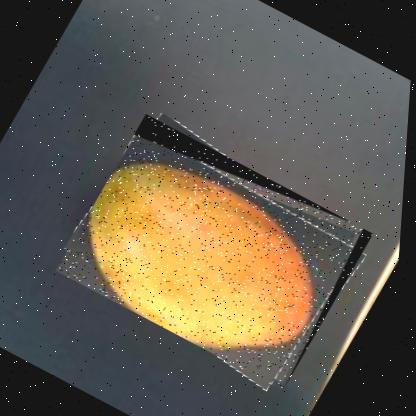mango: (51, 112, 382, 390)
